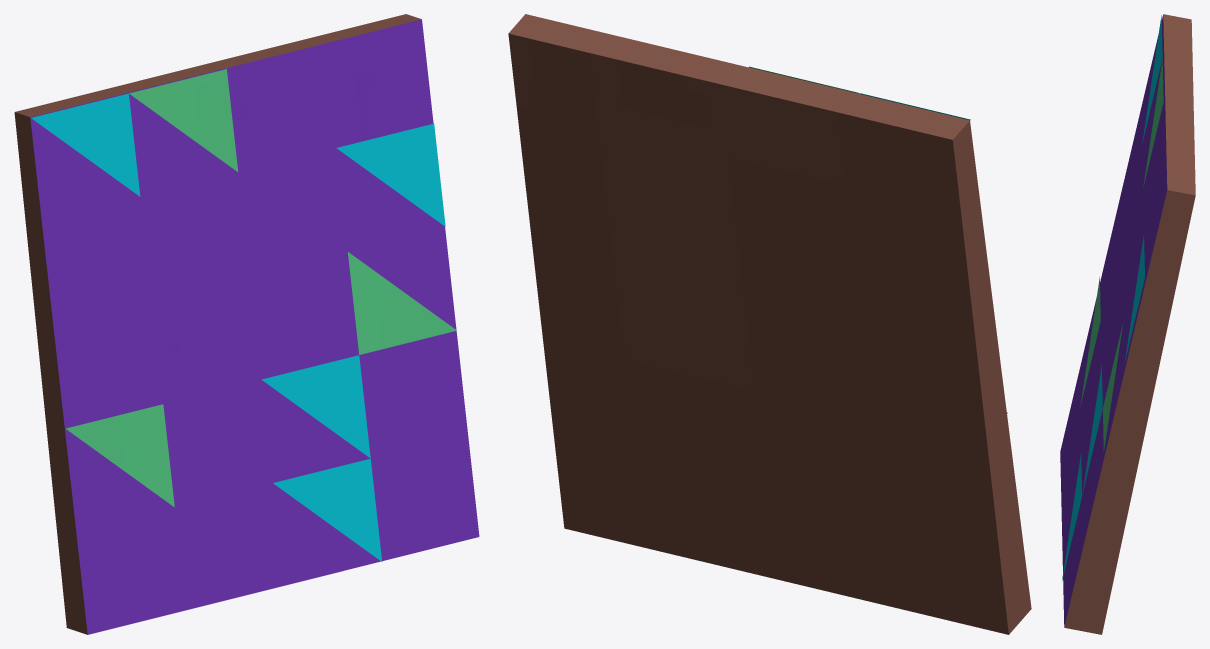
Rendered from prop_071.glb.
3 views of the same model, side by side, from view 1: azimuth 30°, elevation 25°; view 2: azimuth 150°, elevation 25°; view 3: azimuth 270°, elevation 25° (orthographic). The views are drawn at different scales.
Visible parts, largest first — view 1: prop_071; view 2: prop_071; view 3: prop_071.
Part boxes in pixels (bbox=[...]): prop_071: bbox=[14, 14, 479, 634]; prop_071: bbox=[508, 14, 1031, 634]; prop_071: bbox=[1060, 14, 1195, 634].
Size of the model in its own units: 0.1391 by 0.1631 by 0.045.
Materials: 1 (1 with a texture image).
